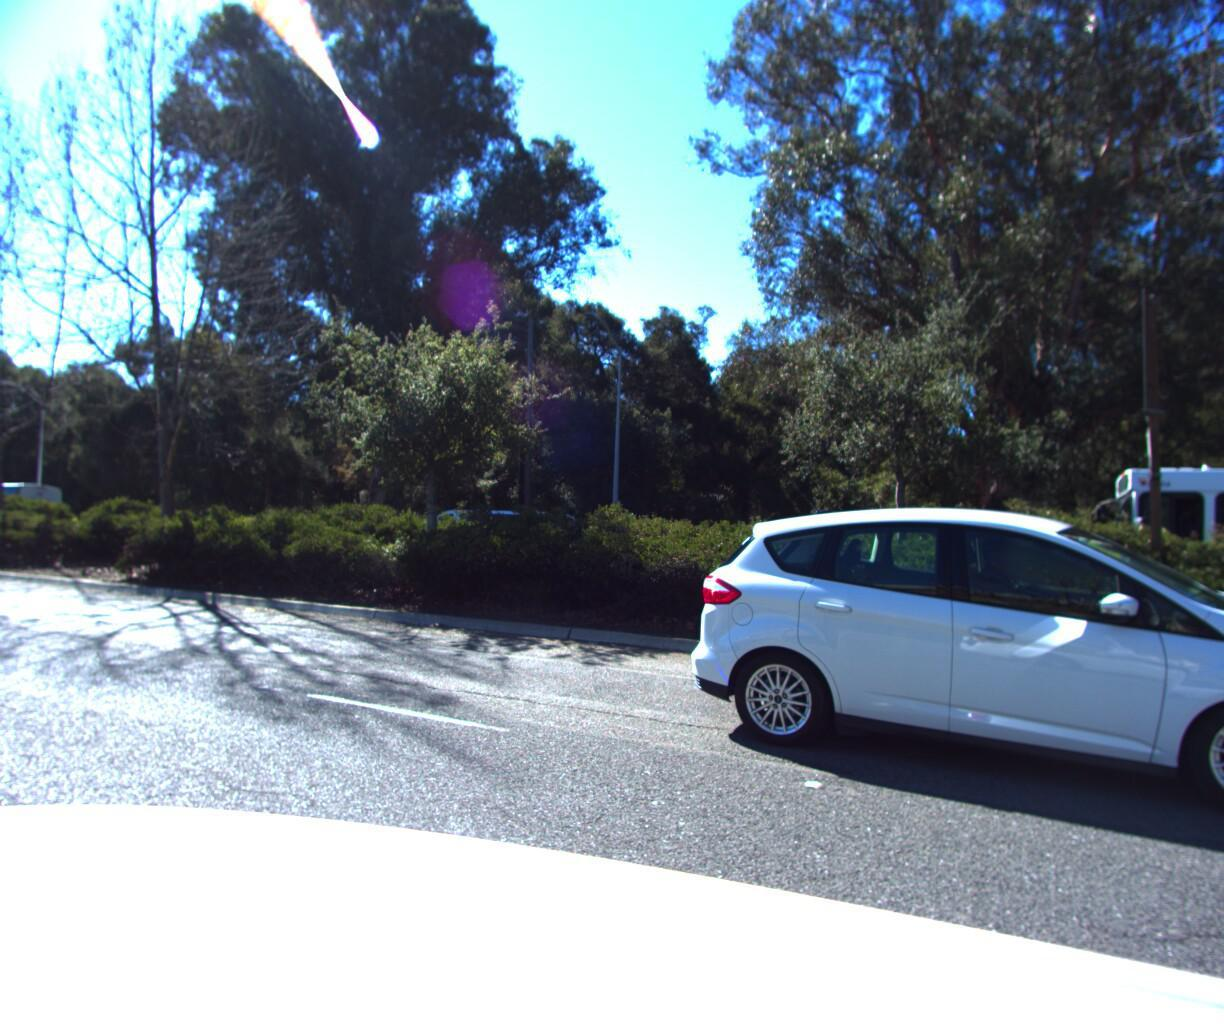bus: (1093, 400, 1224, 692), (0, 483, 73, 547)
car: (649, 478, 1224, 855), (427, 500, 582, 576)
